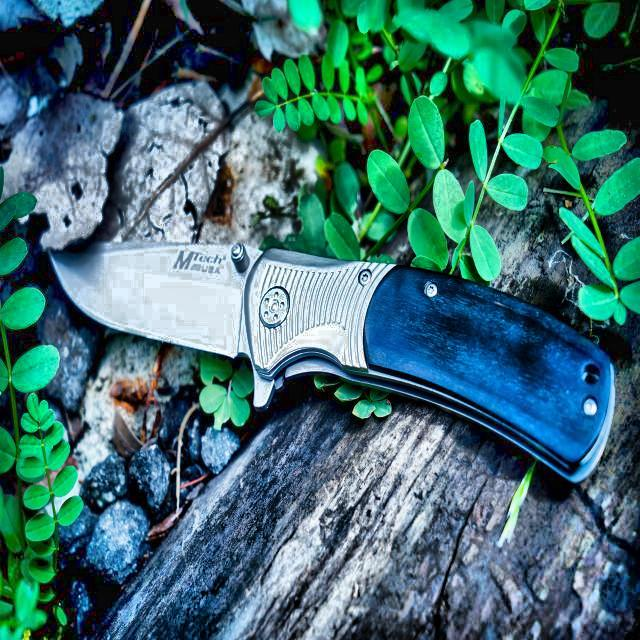knife: (46, 229, 618, 492)
